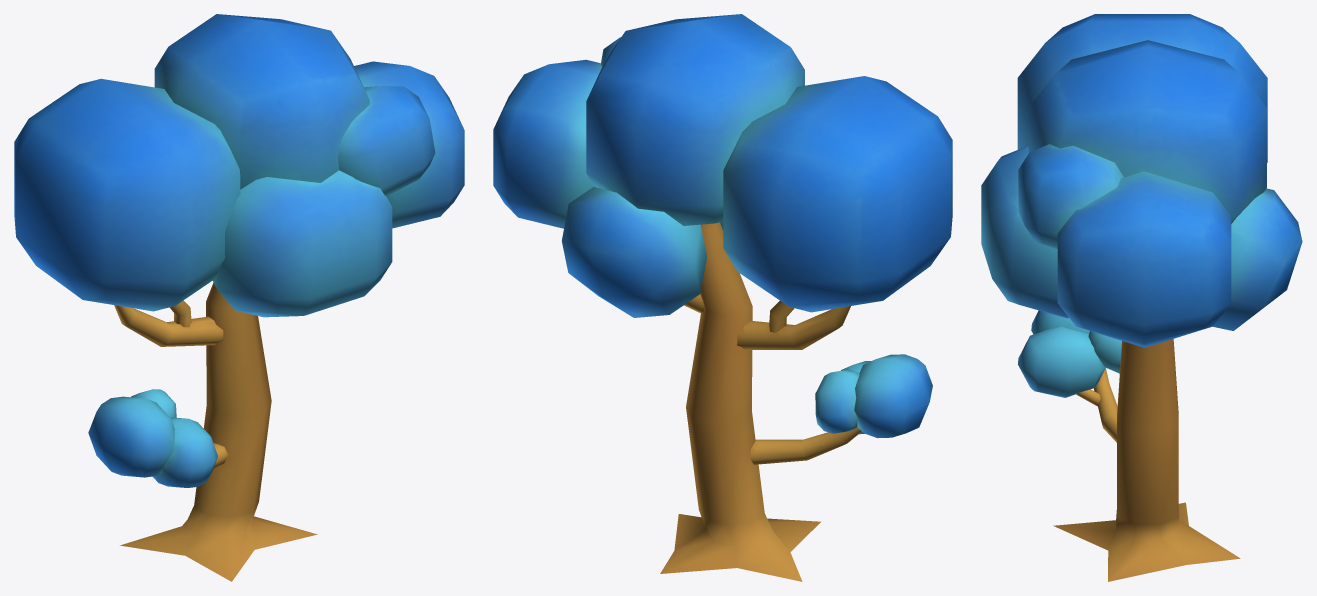
File: MLD_ 3_ Tree_ Blue.fbx
3 renders of one model, left to right at view 1: azimuth 30°, elevation 25°; view 2: azimuth 150°, elevation 25°; view 3: azimuth 270°, elevation 25°, orthographic.
Visible parts, largest first — view 1: G_3_Tree_Blue; view 2: G_3_Tree_Blue; view 3: G_3_Tree_Blue.
Part boxes in pixels (bbox=[...]): G_3_Tree_Blue: bbox=[14, 14, 464, 581]; G_3_Tree_Blue: bbox=[493, 14, 952, 581]; G_3_Tree_Blue: bbox=[981, 14, 1302, 581].
Bounding box in the file's own units: 351 × 416 × 234.
